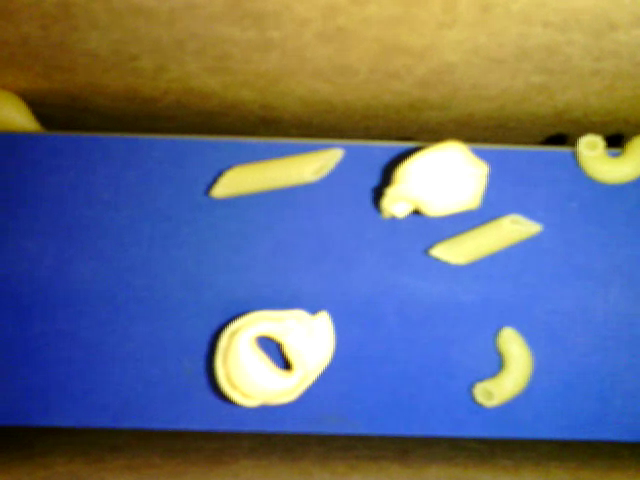elbow: (471, 326, 533, 408), (577, 133, 639, 184)
penne: (209, 147, 343, 198), (426, 212, 544, 264)
tortellini: (214, 307, 336, 408), (379, 138, 490, 220)
